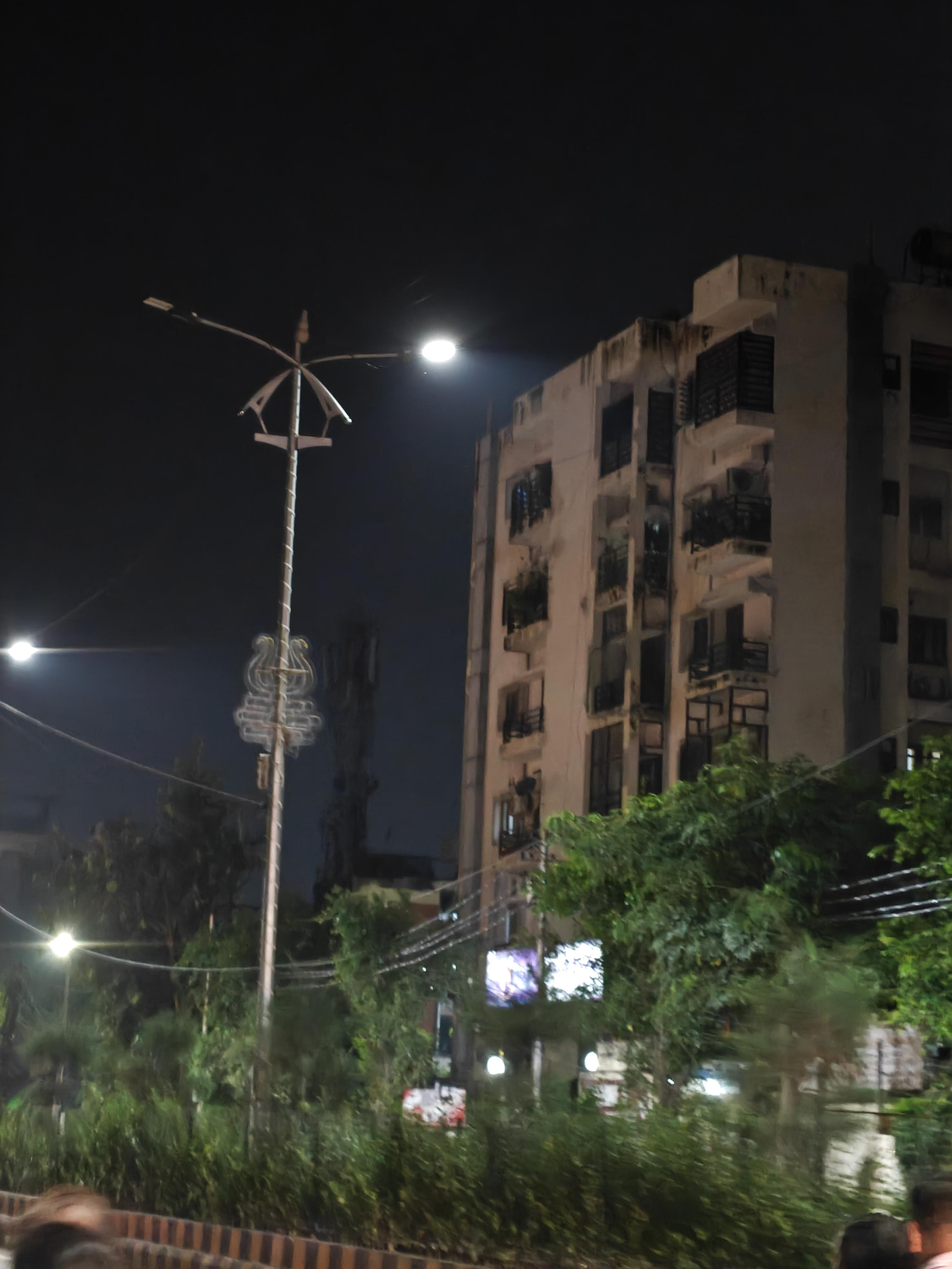streetlight: (143, 293, 287, 365)
